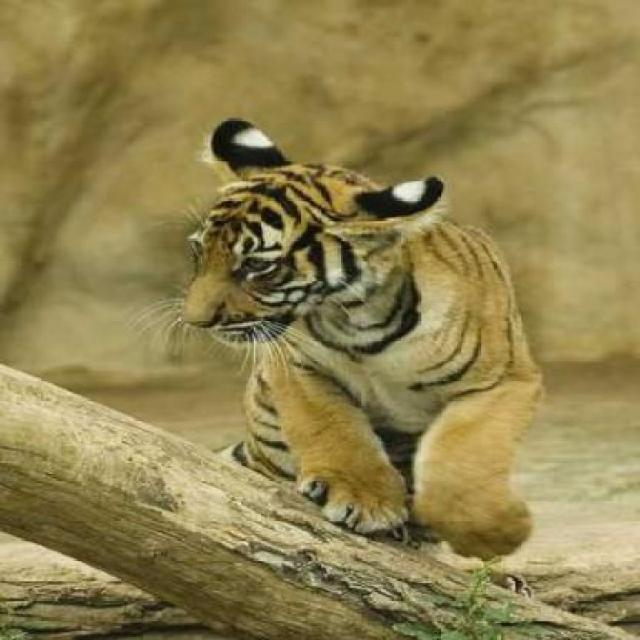tiger: (133, 115, 545, 562)
